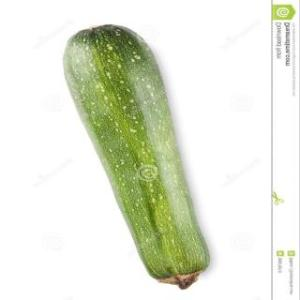zucchini: (62, 6, 208, 290)
